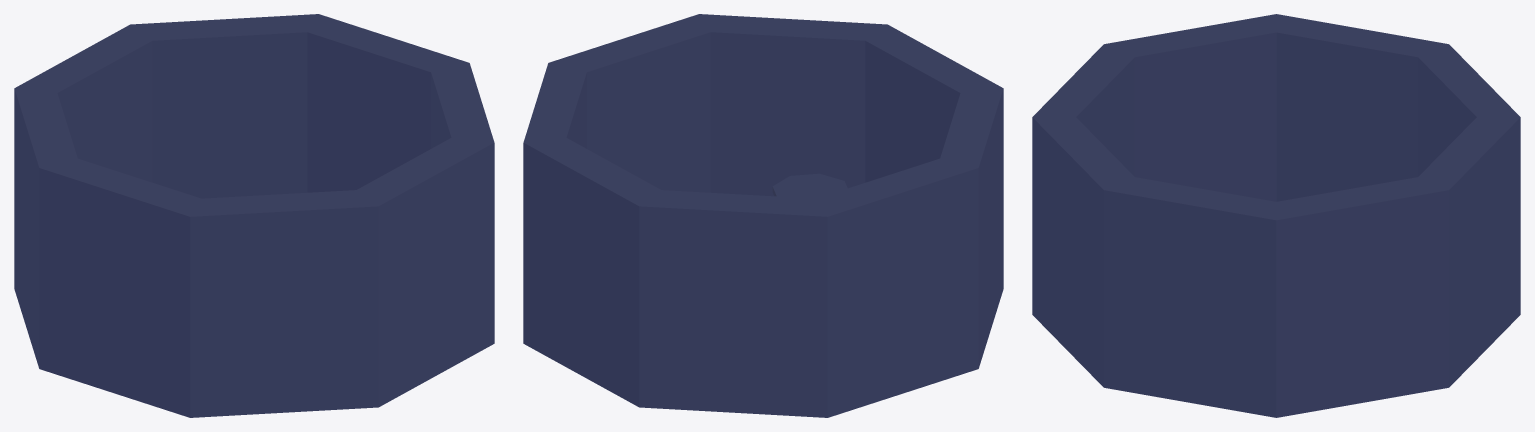
Rendered from coloseum_wall_test.glb.
3 views of the same model, side by side, from view 1: azimuth 30°, elevation 25°; view 2: azimuth 150°, elevation 25°; view 3: azimuth 270°, elevation 25° (orthographic).
Visible parts, largest first — view 1: Cylinder; view 2: Cylinder; view 3: Cylinder.
Part boxes in pixels (left/top/right/bottom): Cylinder: left=14, top=14, right=494, bottom=417; Cylinder: left=523, top=14, right=1003, bottom=417; Cylinder: left=1032, top=14, right=1520, bottom=417.
Size of the model in its own units: 460 by 206 by 460.
2 materials, 1 textured.
